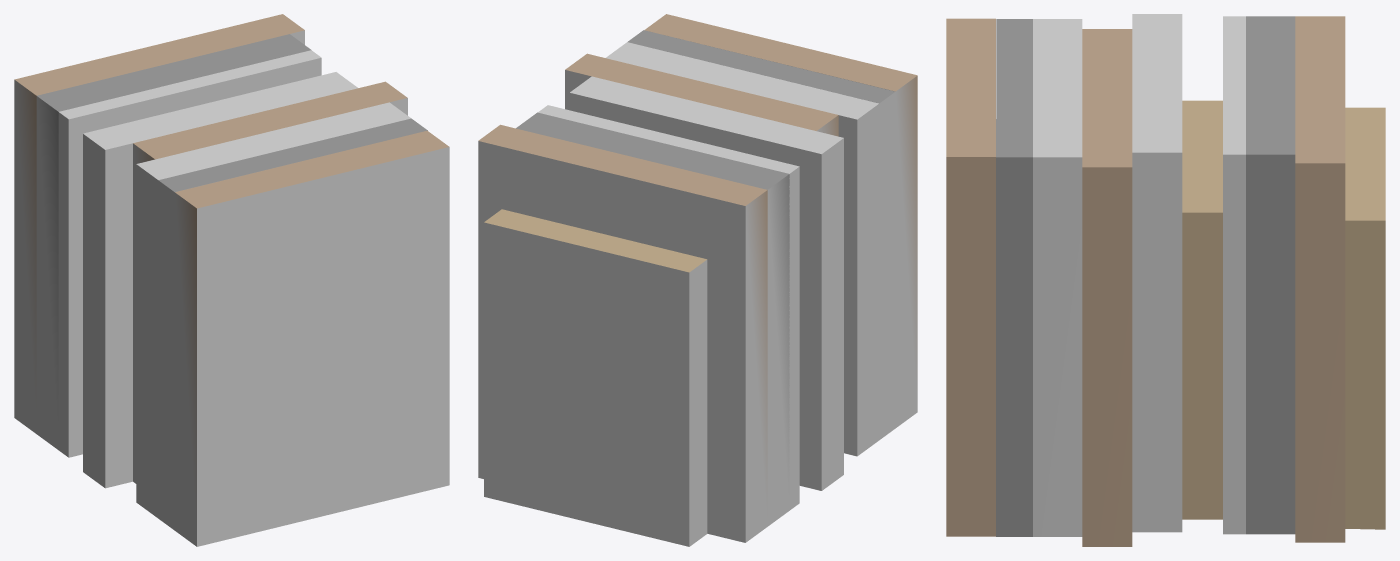
Rendered from SM_H_Government_Tide_Book_02A_ATLAS.fbx.
3 views of the same model, side by side, from view 1: azimuth 30°, elevation 25°; view 2: azimuth 150°, elevation 25°; view 3: azimuth 270°, elevation 25° (orthographic). The views are drawn at different scales.
Visible parts, largest first — view 1: SM_H_Government_Tide_Book_02A_ATLAS; view 2: SM_H_Government_Tide_Book_02A_ATLAS; view 3: SM_H_Government_Tide_Book_02A_ATLAS.
Boxes of the visible parts, left/top/right/bottom form: SM_H_Government_Tide_Book_02A_ATLAS: left=14, top=14, right=449, bottom=546; SM_H_Government_Tide_Book_02A_ATLAS: left=478, top=14, right=917, bottom=546; SM_H_Government_Tide_Book_02A_ATLAS: left=946, top=14, right=1385, bottom=546.
Bounding box in the file's own units: 30.74 × 37.22 × 35.46.
